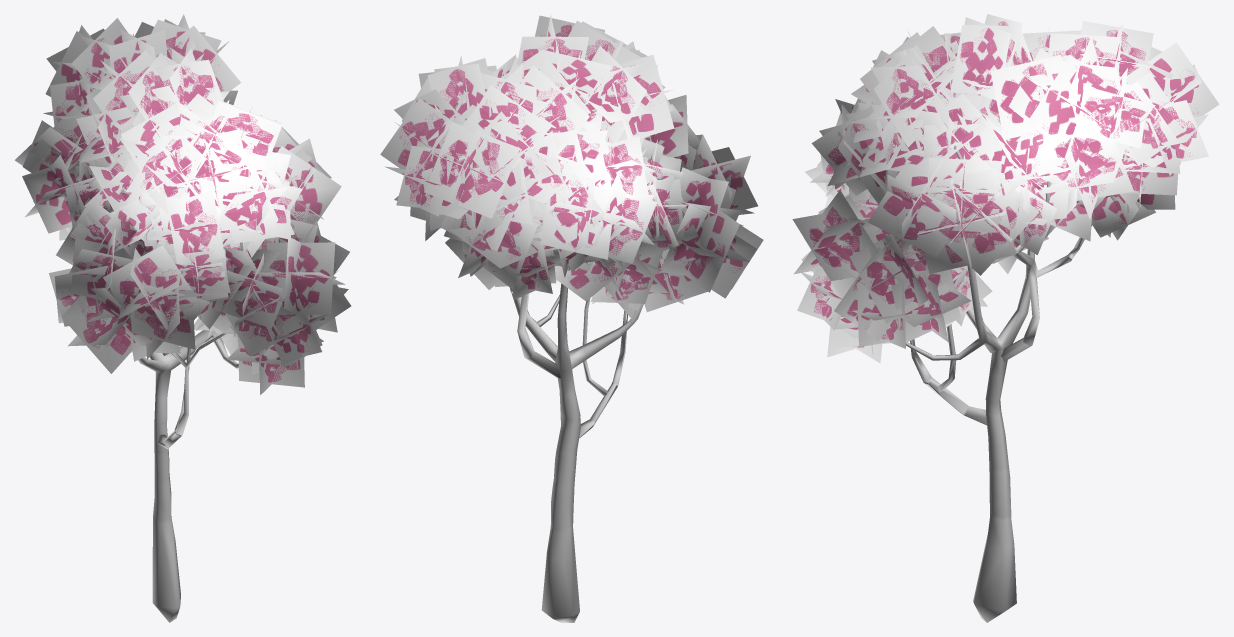
Rendered from TSP_Tree_03C.fbx.
3 views of the same model, side by side, from view 1: azimuth 30°, elevation 25°; view 2: azimuth 150°, elevation 25°; view 3: azimuth 270°, elevation 25° (orthographic). The views are drawn at different scales.
Visible parts, largest first — view 1: TSP_Tree_03C; view 2: TSP_Tree_03C; view 3: TSP_Tree_03C.
Boxes of the visible parts, <box> form: TSP_Tree_03C: <box>15,14,351,622</box>; TSP_Tree_03C: <box>380,14,763,622</box>; TSP_Tree_03C: <box>792,14,1219,622</box>.
Bounding box in the file's own units: 5.56 × 10.24 × 6.51.
